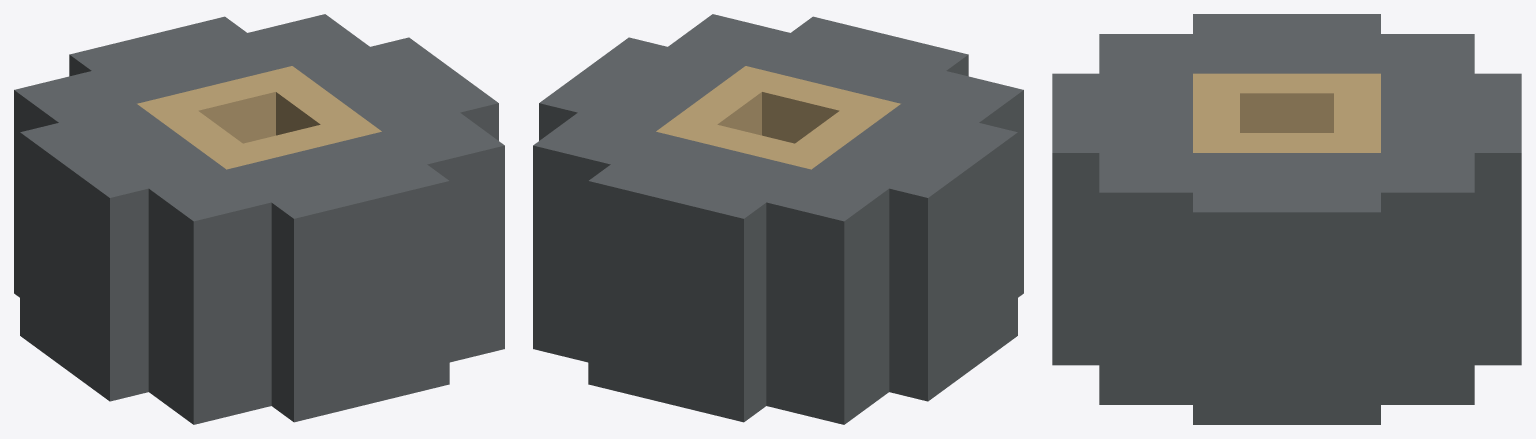
File: duct_tape.glb
3 renders of one model, left to right at view 1: azimuth 30°, elevation 25°; view 2: azimuth 150°, elevation 25°; view 3: azimuth 270°, elevation 25°, orthographic. The views are drawn at different scales.
Visible parts, largest first — view 1: material:ring; view 2: material:ring; view 3: material:ring.
Boxes of the visible parts, <box> form: material:ring: <box>14,14,504,424</box>; material:ring: <box>533,14,1023,424</box>; material:ring: <box>1052,14,1521,424</box>.
Bounding box in the file's own units: 0.1 × 0.05 × 0.1.
